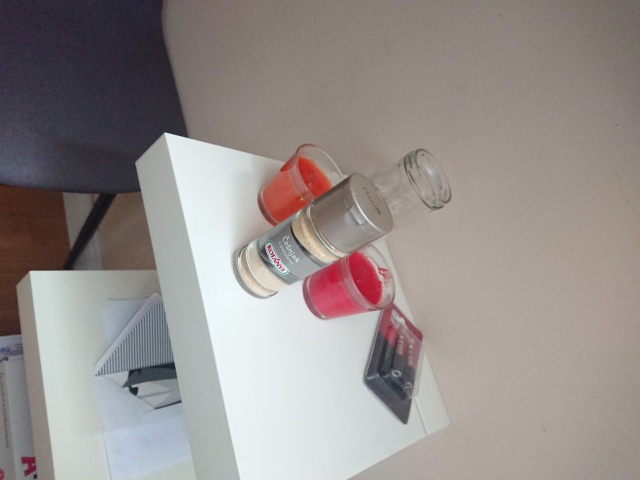Kotanyi Garlic Granules 70g: (229, 170, 396, 301)
